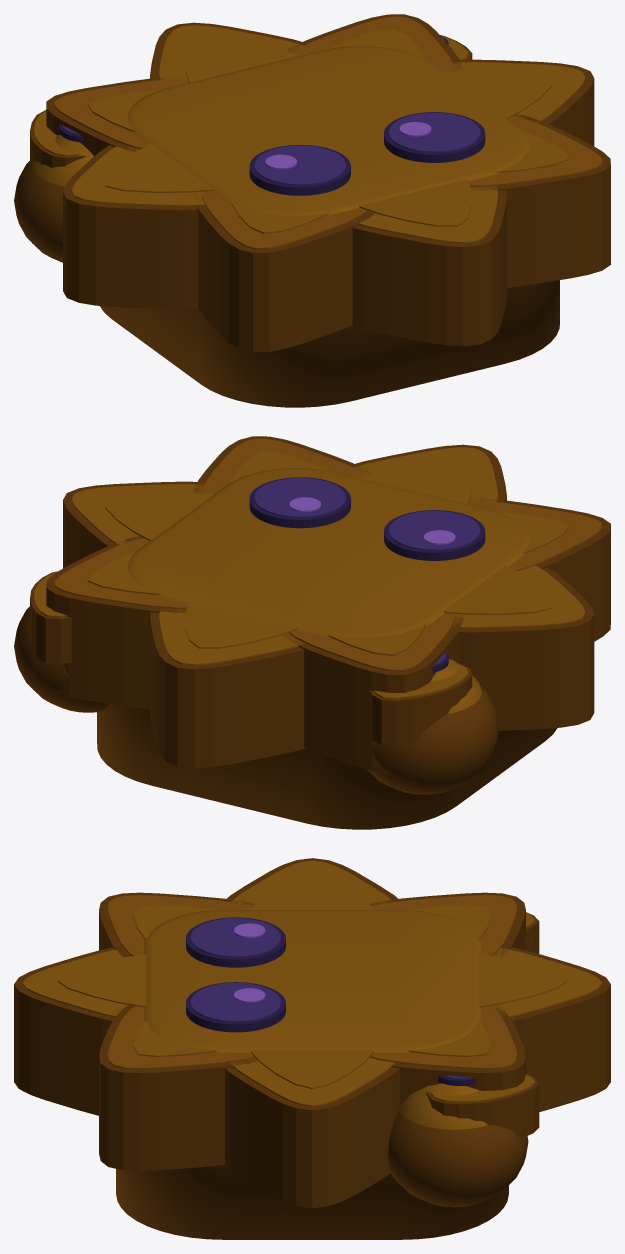
Rendered from body_pinha.fbx.
The picture shows the model from 3 angles, top to bottom: view 1: azimuth 30°, elevation 25°; view 2: azimuth 150°, elevation 25°; view 3: azimuth 270°, elevation 25°; orthographic projection.
Parts seen in each view (by area): view 1: body_pinha_corpo, body_pinha_mao_esq; view 2: body_pinha_corpo, body_pinha_mao_esq, body_pinha_mao; view 3: body_pinha_corpo, body_pinha_mao, body_pinha_mao_esq.
Boxes of the visible parts, left/top/right/bottom form: body_pinha_corpo: left=46, top=14, right=610, bottom=407; body_pinha_mao_esq: left=14, top=110, right=93, bottom=262; body_pinha_corpo: left=46, top=436, right=610, bottom=829; body_pinha_mao_esq: left=367, top=653, right=498, bottom=794; body_pinha_mao: left=14, top=571, right=109, bottom=712; body_pinha_corpo: left=14, top=858, right=610, bottom=1239; body_pinha_mao: left=388, top=1074, right=539, bottom=1207; body_pinha_mao_esq: left=525, top=912, right=539, bottom=953.
Bounding box in the file's own units: 6.08 × 2.12 × 6.08.
1 material, 1 textured.
